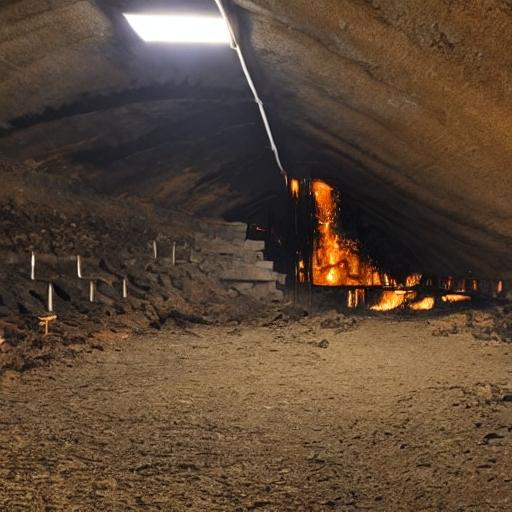fire: (259, 163, 504, 341)
